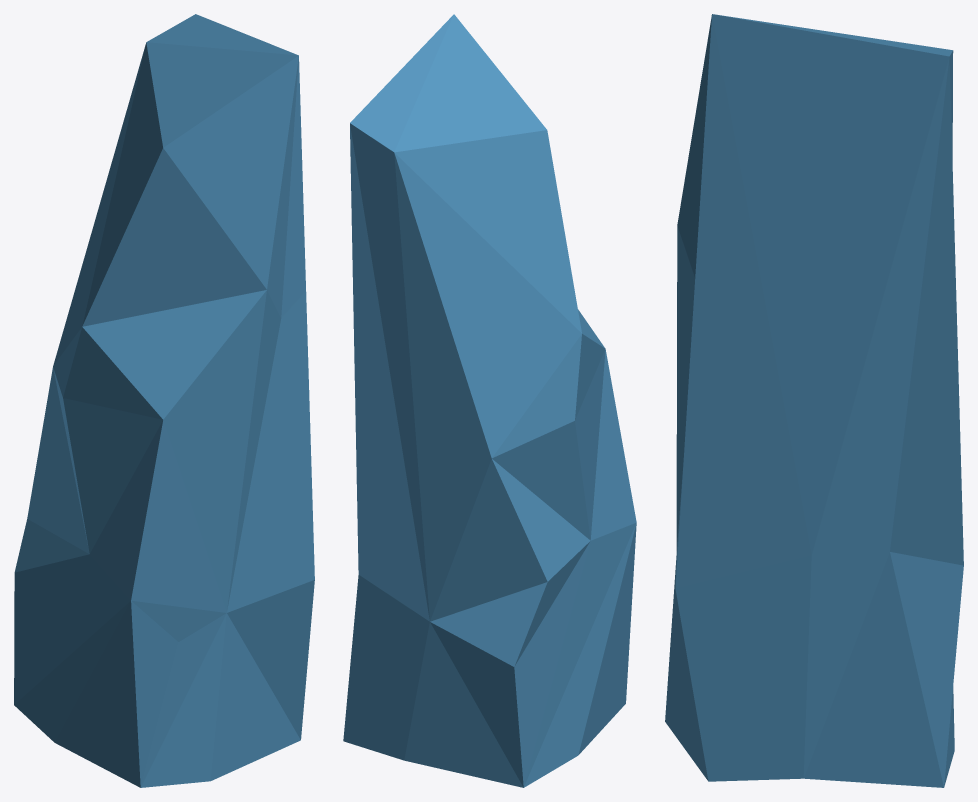
The model's file is SP_Rock01.fbx.
3 renders of one model, left to right at view 1: azimuth 30°, elevation 25°; view 2: azimuth 150°, elevation 25°; view 3: azimuth 270°, elevation 25°, orthographic. The views are drawn at different scales.
Parts seen in each view (by area): view 1: SP_Rock01; view 2: SP_Rock01; view 3: SP_Rock01.
Boxes of the visible parts, box(x1,y1,x2,y2) form: SP_Rock01: box(14, 14, 314, 787); SP_Rock01: box(343, 14, 636, 787); SP_Rock01: box(665, 14, 963, 787).
Size of the model in its own units: 57.33 by 189 by 66.55.
1 material, 1 textured.
